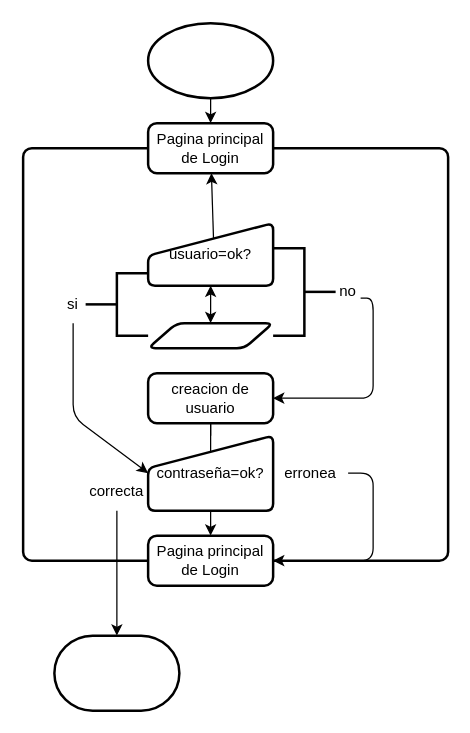
Image size: 470x733. Some labels were removed from this diagram. The shapes that lost their labels are listed below. From the top down, each one's box as (x1, y1, x2, y2) in pixels, then its label:
(146, 21, 274, 99): inicio
(146, 321, 274, 349): existe?
(52, 634, 180, 711): Redirecciona a pagina de tareas
